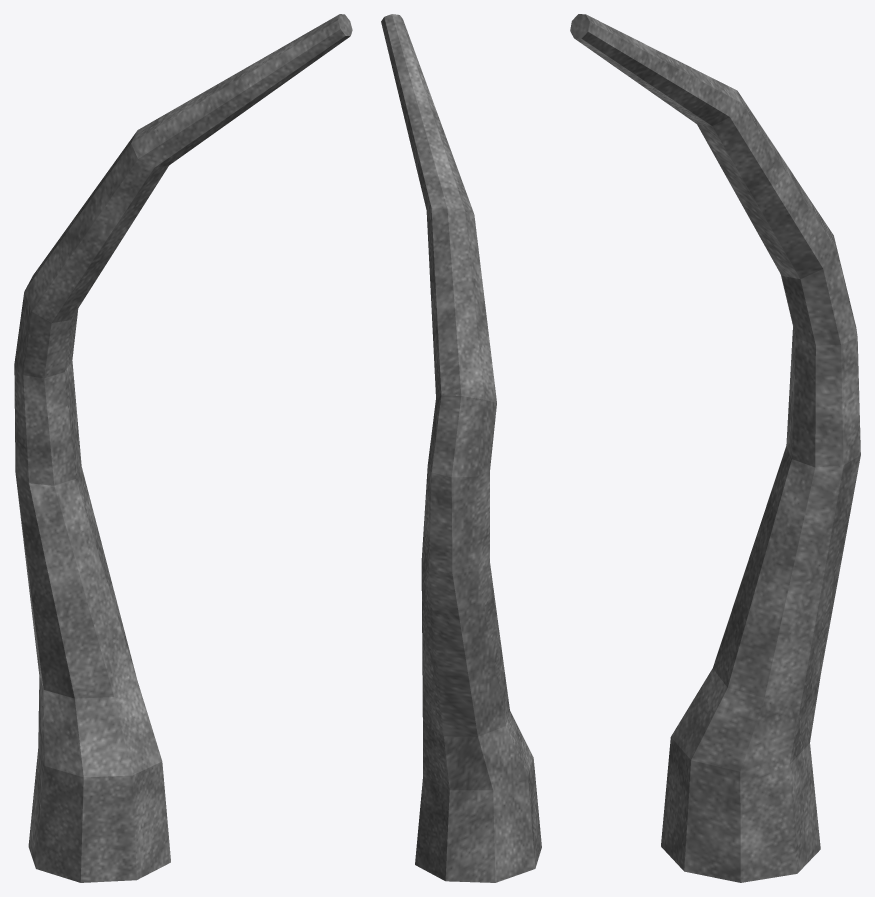
The model's file is spike individual var 3.fbx.
3 renders of one model, left to right at view 1: azimuth 30°, elevation 25°; view 2: azimuth 150°, elevation 25°; view 3: azimuth 270°, elevation 25°, orthographic. The views are drawn at different scales.
Parts seen in each view (by area): view 1: spike individual var 3; view 2: spike individual var 3; view 3: spike individual var 3.
Boxes of the visible parts, x1=… form: spike individual var 3: x1=14, y1=14, x2=352, y2=882; spike individual var 3: x1=381, y1=14, x2=541, y2=882; spike individual var 3: x1=570, y1=14, x2=860, y2=882.
Bounding box in the file's own units: 290 × 969 × 276.
